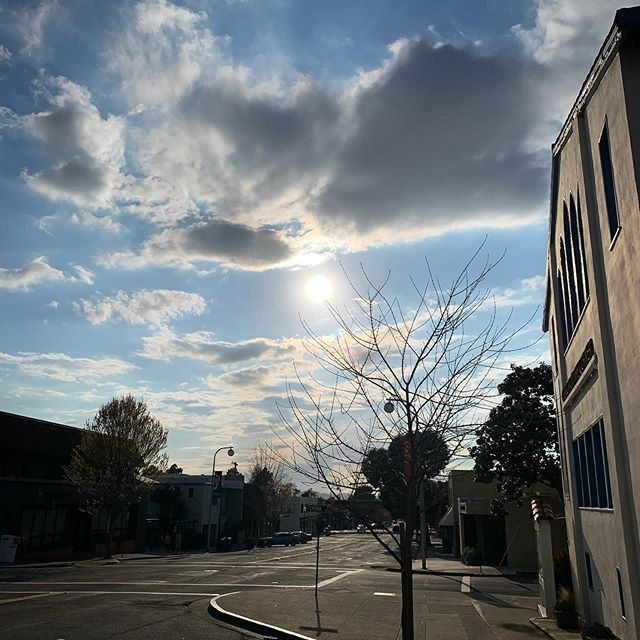building: (532, 20, 640, 640), (1, 415, 131, 561), (163, 468, 240, 557)
sidewalk: (226, 583, 558, 640)
sky: (6, 1, 539, 406)
street: (1, 535, 385, 640)
tree: (264, 246, 527, 640), (70, 386, 179, 550), (470, 361, 561, 518)
